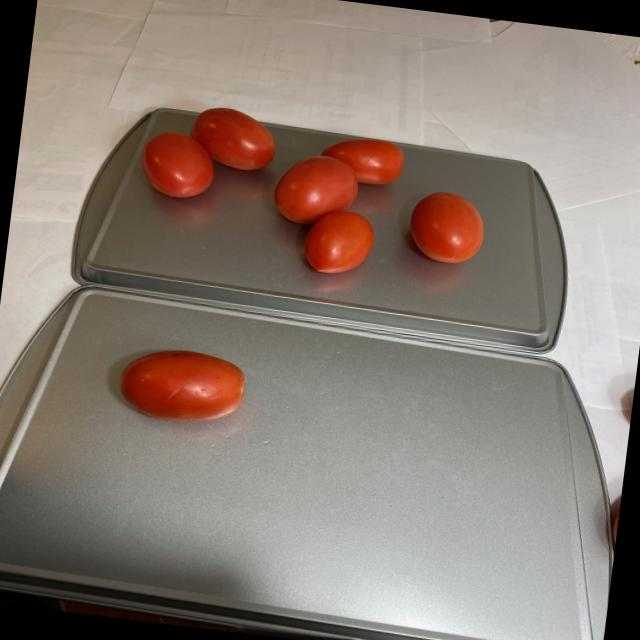tomato: (126, 100, 514, 300), (103, 336, 251, 429)
